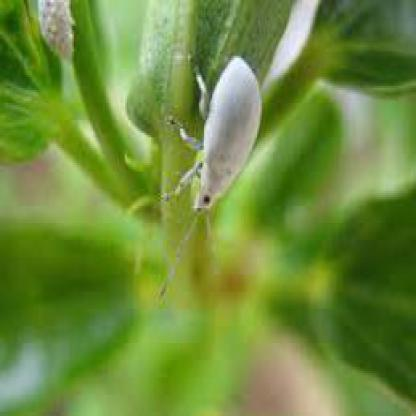ash weevil: (159, 56, 262, 299)
